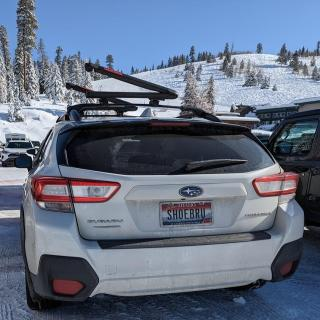license: (159, 201, 216, 229)
